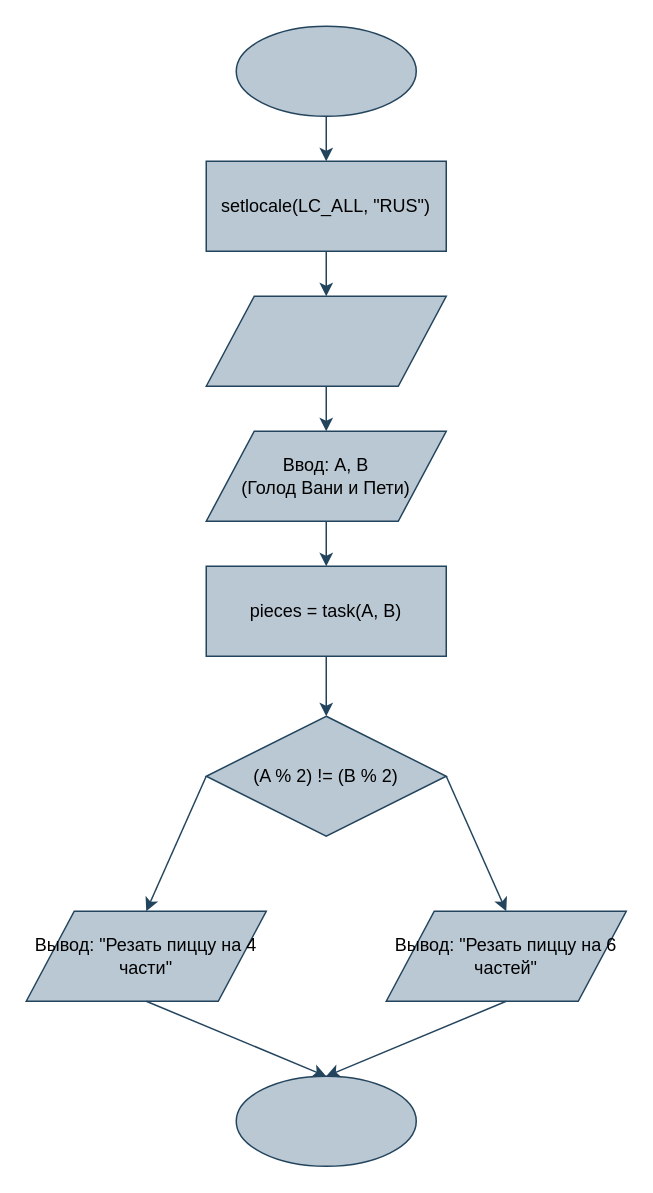
Some shapes in this 653 by 1193 pixel diagram are drawn without their labels. The shapes that lost their labels are listed below. From the top down, each one's box as (x1, y1, x2, y2) in pixels, then its label:
(235, 25, 416, 116): Начало
(205, 295, 446, 386): Вывод: "Дз: Деление пиццы"
(235, 1075, 416, 1166): Конец
